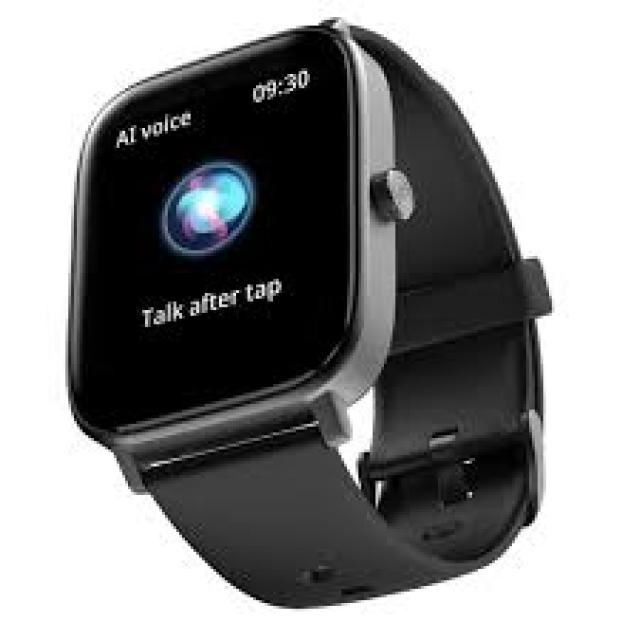objects: (67, 17, 549, 615)
